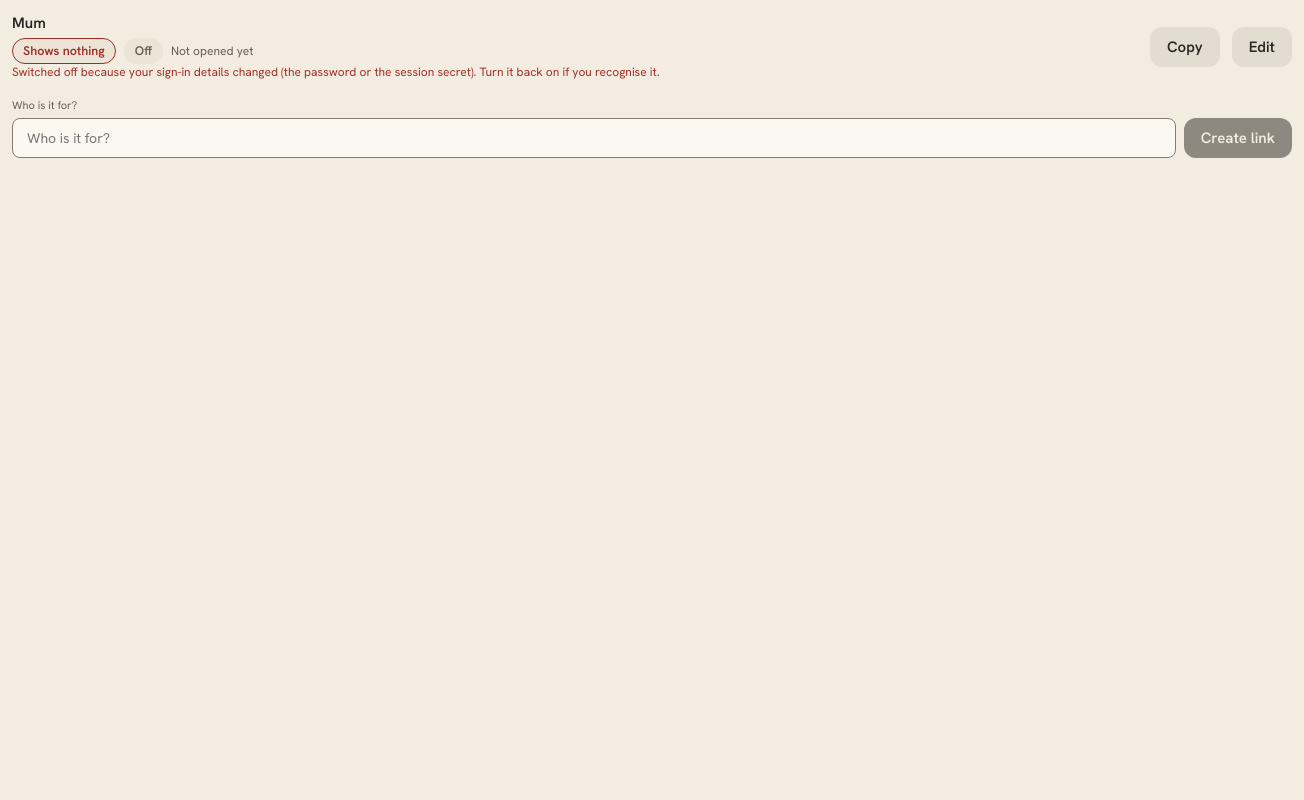
it: Shares under Field notes › drops the preview note but keeps what the preview shows
The width and height of the screenshot is (1304, 800).
Click the button "Edit". click: (1262,46)
box: left=1232, top=26, right=1292, bottom=66
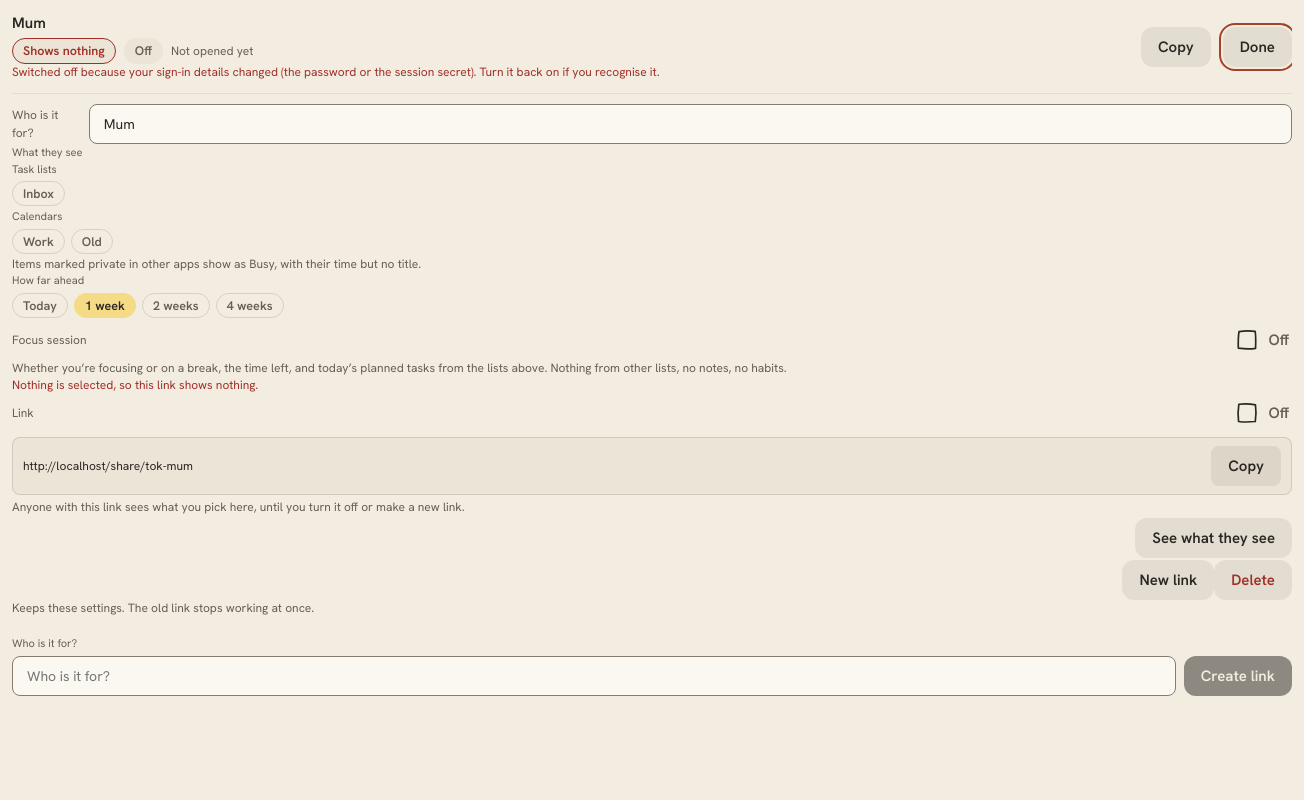
Click the button "See what they see". click: (1214,538)
box: left=1135, top=518, right=1292, bottom=558
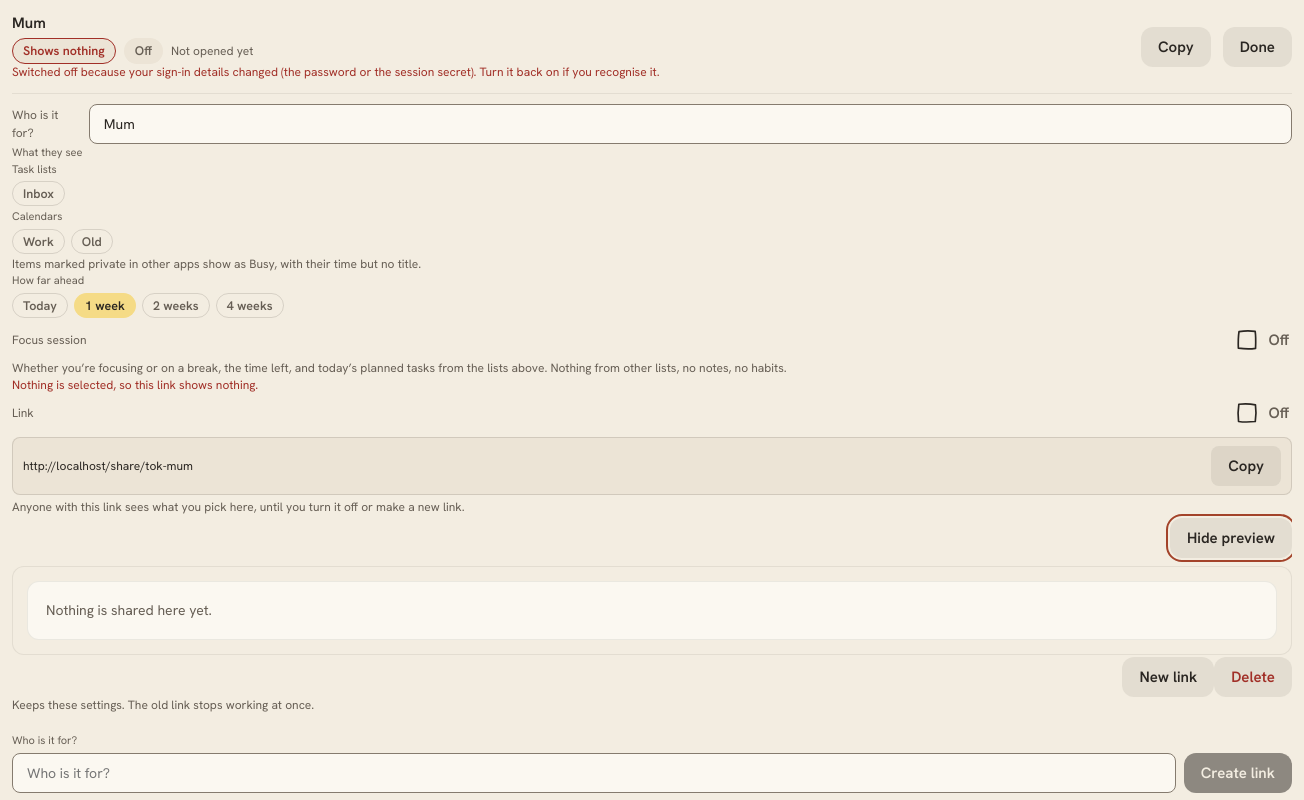
Now the element with class "share-preview" is shown, box left=12, top=566, right=1292, bottom=655
